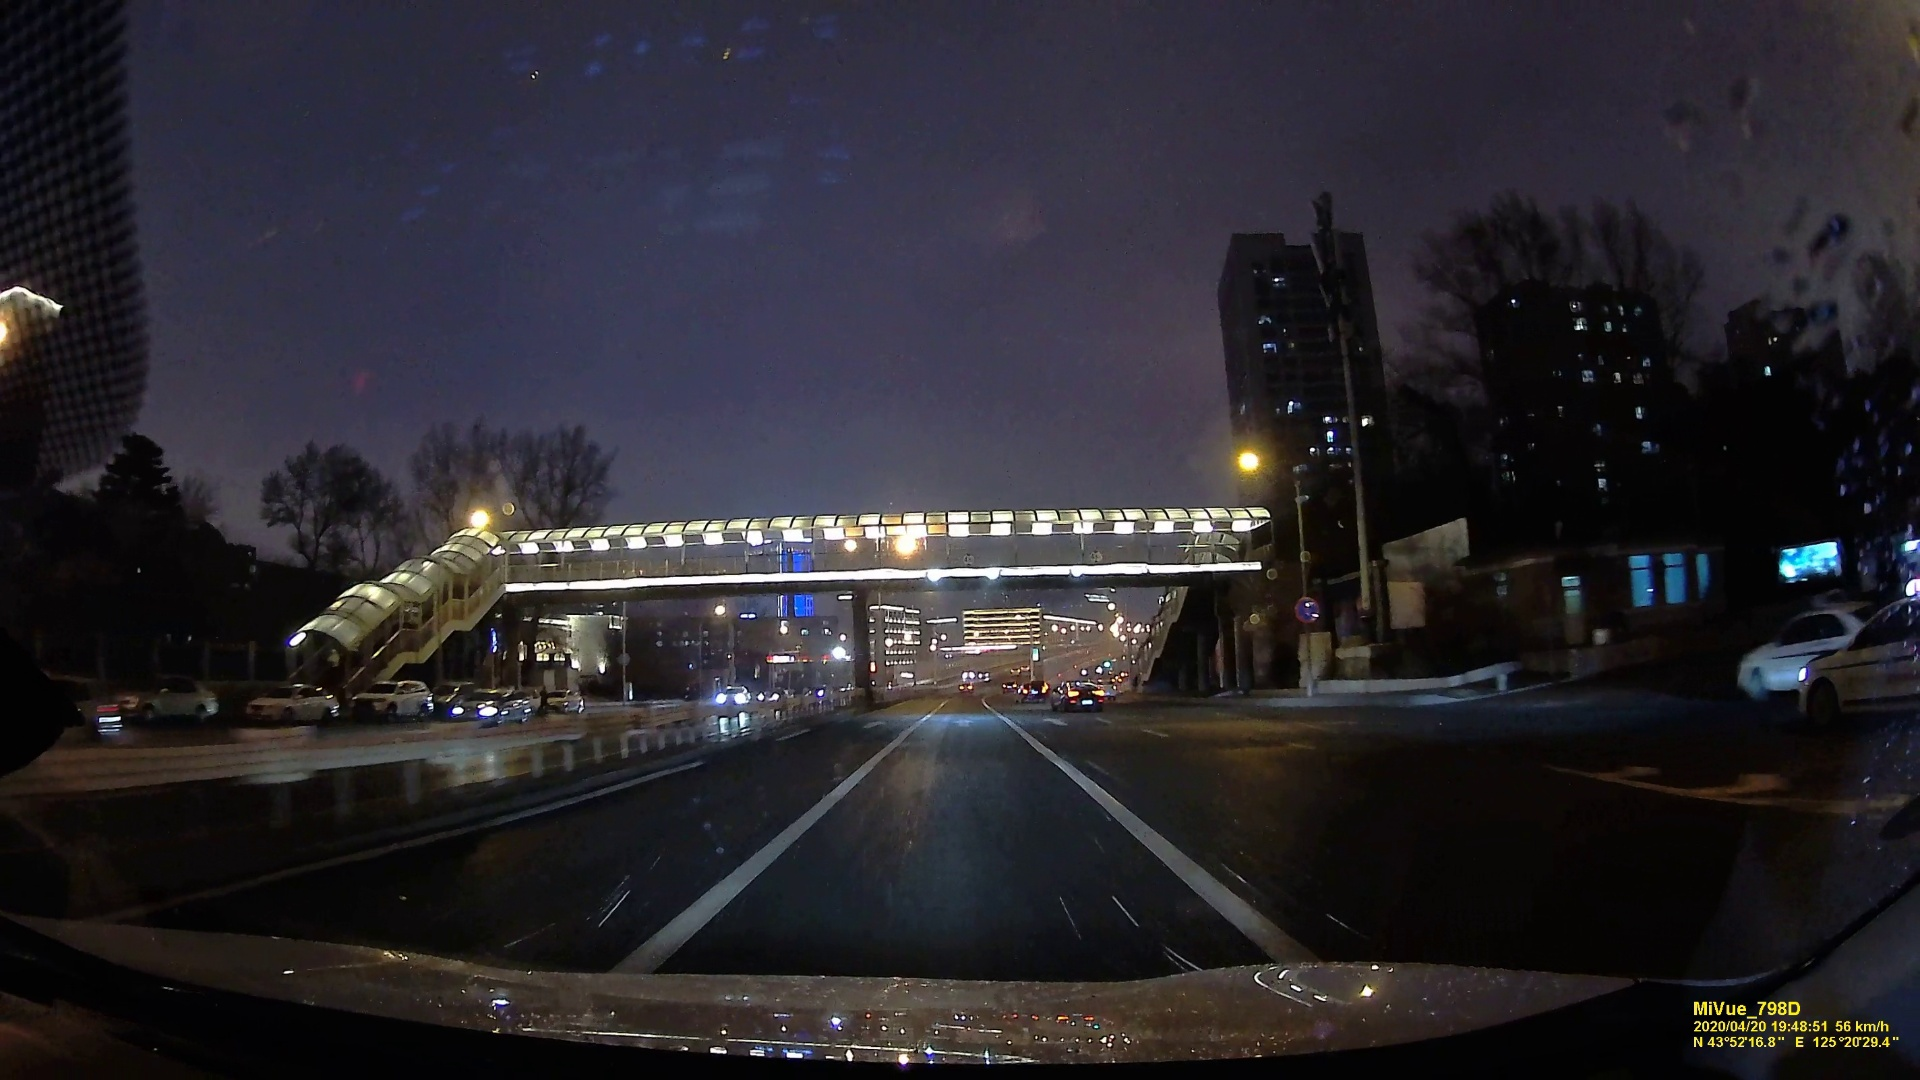person: (538, 684, 550, 714)
traffic_sign: (1290, 593, 1321, 623)
vehicle: (345, 681, 431, 720), (452, 689, 530, 725), (1048, 682, 1102, 709), (712, 686, 750, 708)
